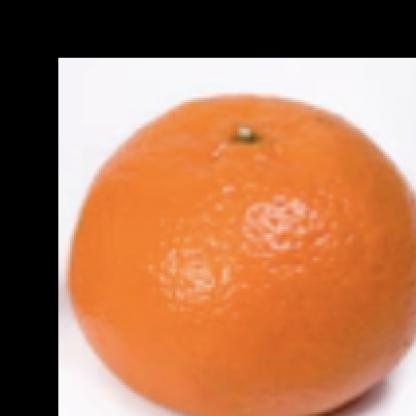fresh: (71, 89, 416, 416)
